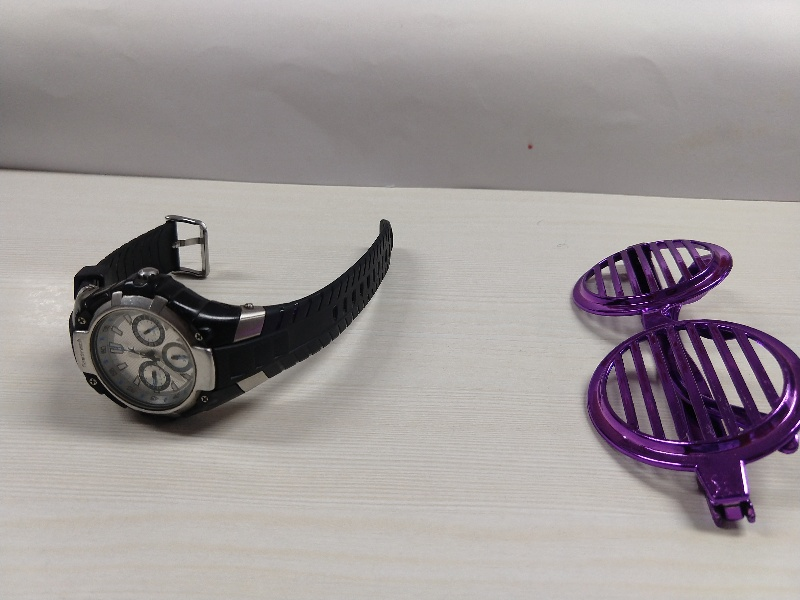shades: (559, 222, 800, 533)
watch: (61, 211, 407, 428)
